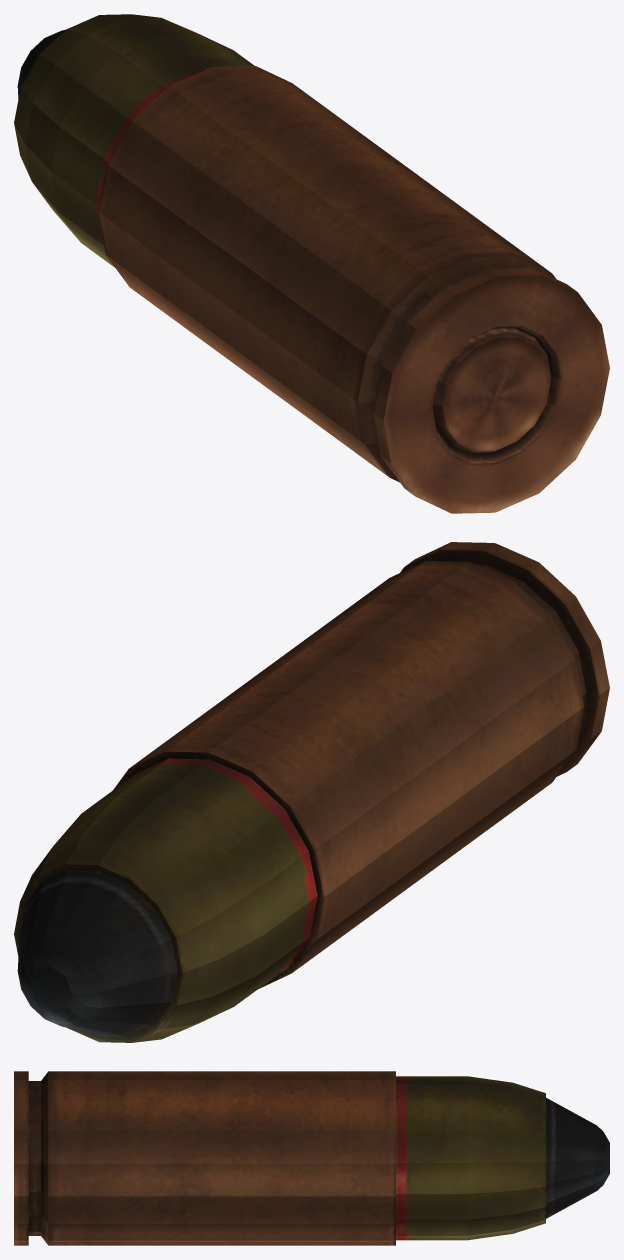
The picture shows the model from 3 angles, top to bottom: view 1: azimuth 30°, elevation 25°; view 2: azimuth 150°, elevation 25°; view 3: azimuth 270°, elevation 25°; orthographic projection. The views are drawn at different scales.
Visible parts, largest first — view 1: TW_5a269f97c4a282000b151807_PZ_Import; view 2: TW_5a269f97c4a282000b151807_PZ_Import; view 3: TW_5a269f97c4a282000b151807_PZ_Import.
Part boxes in pixels (x1,y1,x2,y2): TW_5a269f97c4a282000b151807_PZ_Import: (14, 14, 609, 513); TW_5a269f97c4a282000b151807_PZ_Import: (14, 542, 609, 1042); TW_5a269f97c4a282000b151807_PZ_Import: (14, 1071, 609, 1245).
Bounding box in the file's own units: 0.00555 × 0.0189 × 0.00552.
1 material, 1 textured.
